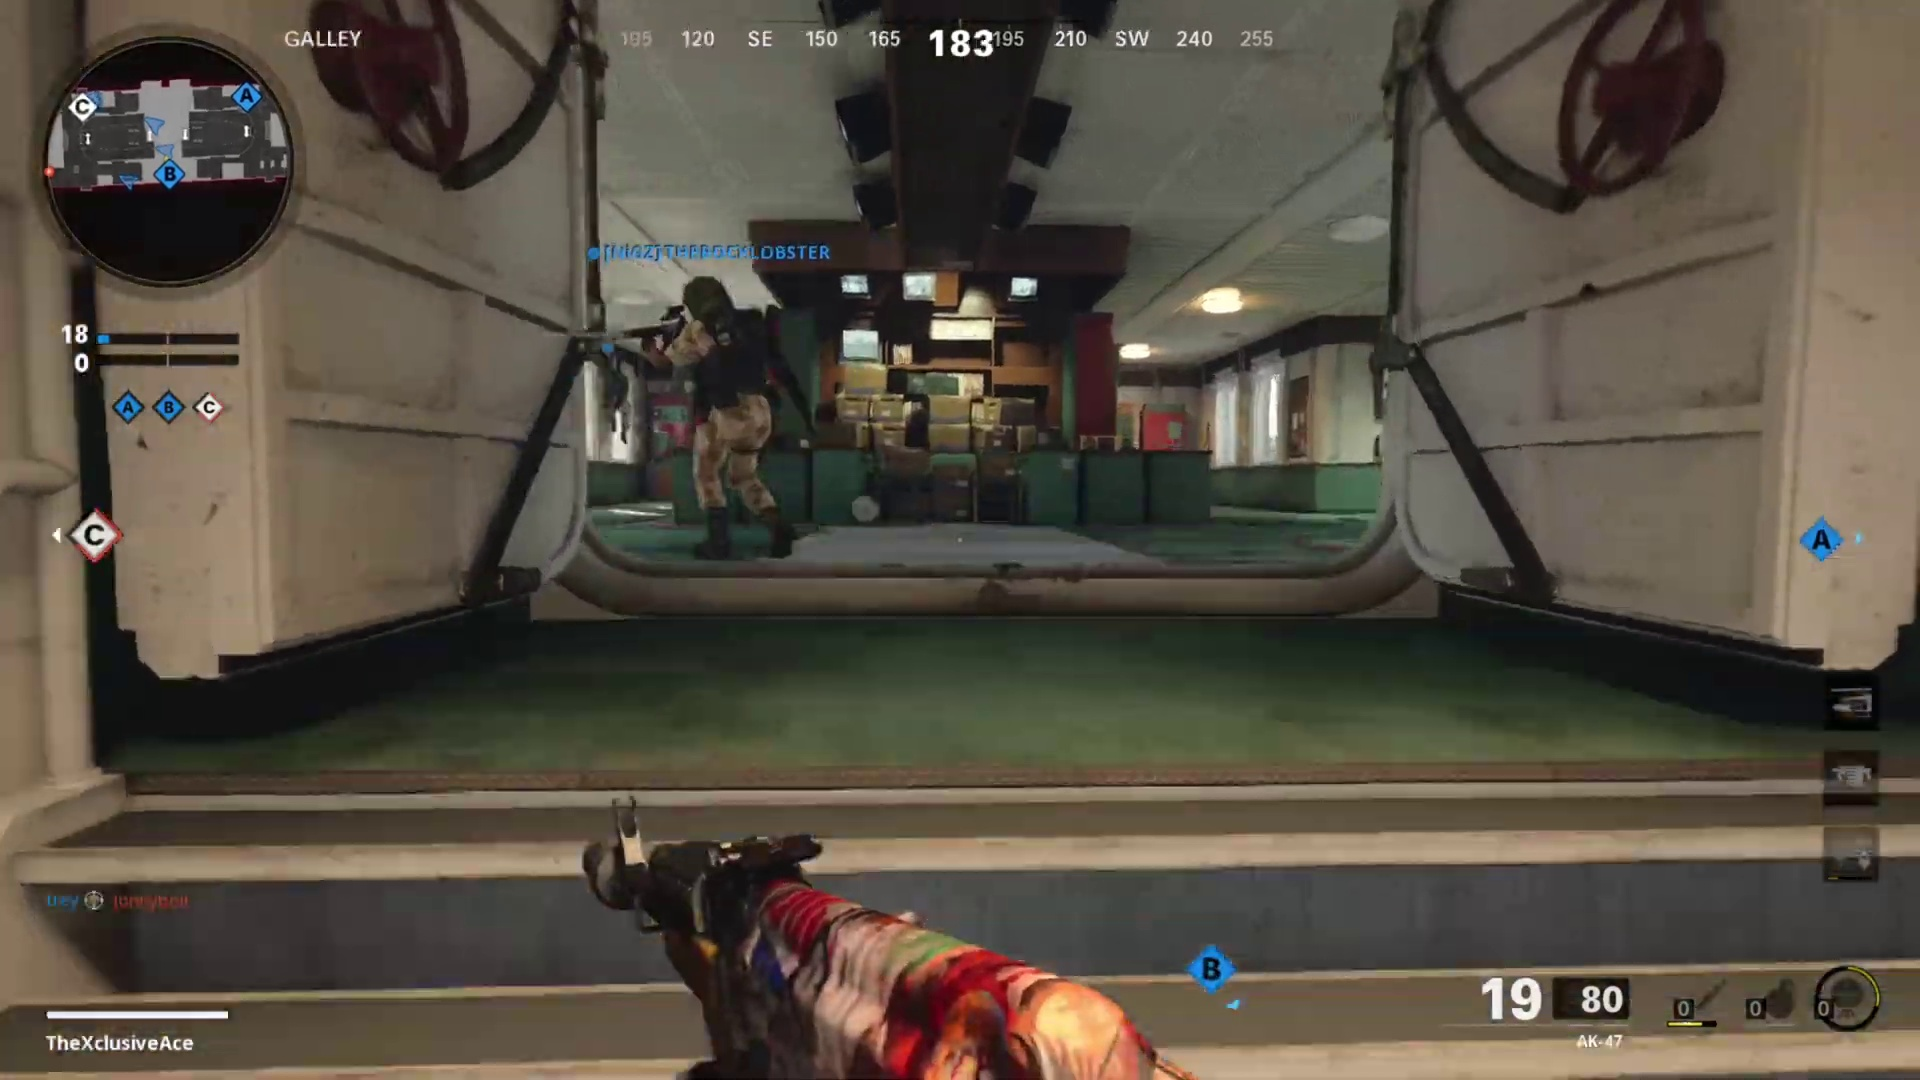head: (671, 270, 743, 350)
person: (647, 270, 804, 564)
